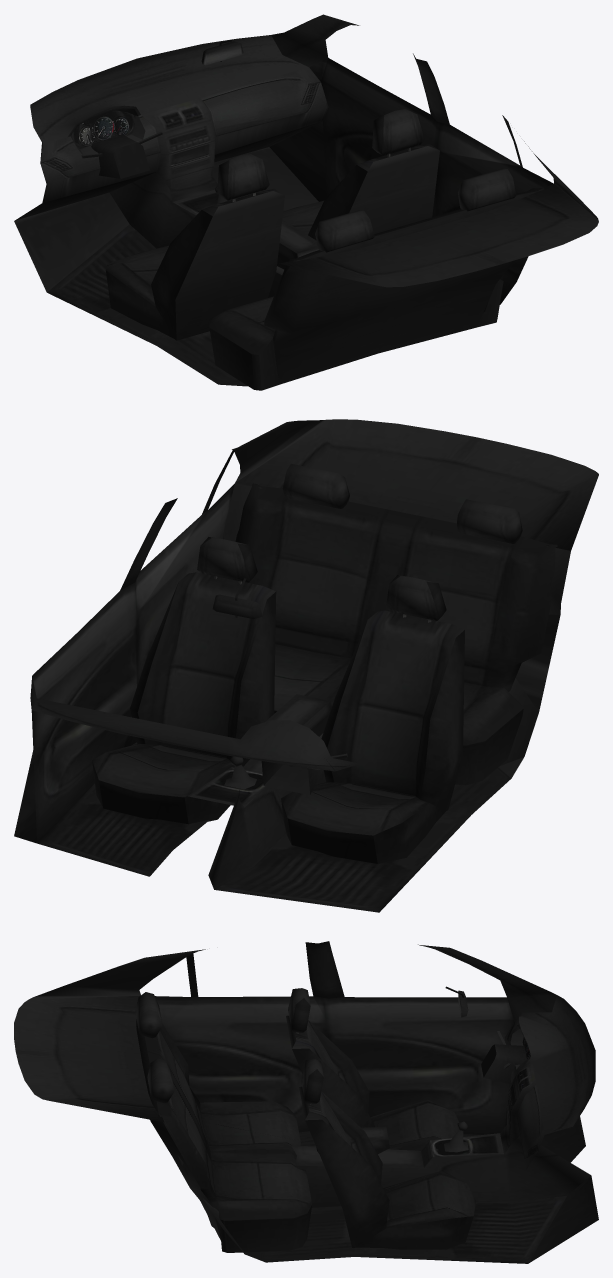
The model's file is tozzo98_interior_ucb_interiors_2_0.002_lev3.glb.
3 views of the same model, one above another, from view 1: azimuth 30°, elevation 25°; view 2: azimuth 150°, elevation 25°; view 3: azimuth 270°, elevation 25° (orthographic). The views are drawn at different scales.
Visible parts, largest first — view 1: tozzo98_interior_ucb_interiors_2_0.002_lev3; view 2: tozzo98_interior_ucb_interiors_2_0.002_lev3; view 3: tozzo98_interior_ucb_interiors_2_0.002_lev3.
Boxes of the visible parts, left/top/right/bottom form: tozzo98_interior_ucb_interiors_2_0.002_lev3: left=14, top=14, right=598, bottom=390; tozzo98_interior_ucb_interiors_2_0.002_lev3: left=14, top=419, right=598, bottom=912; tozzo98_interior_ucb_interiors_2_0.002_lev3: left=14, top=941, right=598, bottom=1263.
Size of the model in its own units: 1.53 by 1.1 by 2.69.
Materials: 1 (1 with a texture image).
